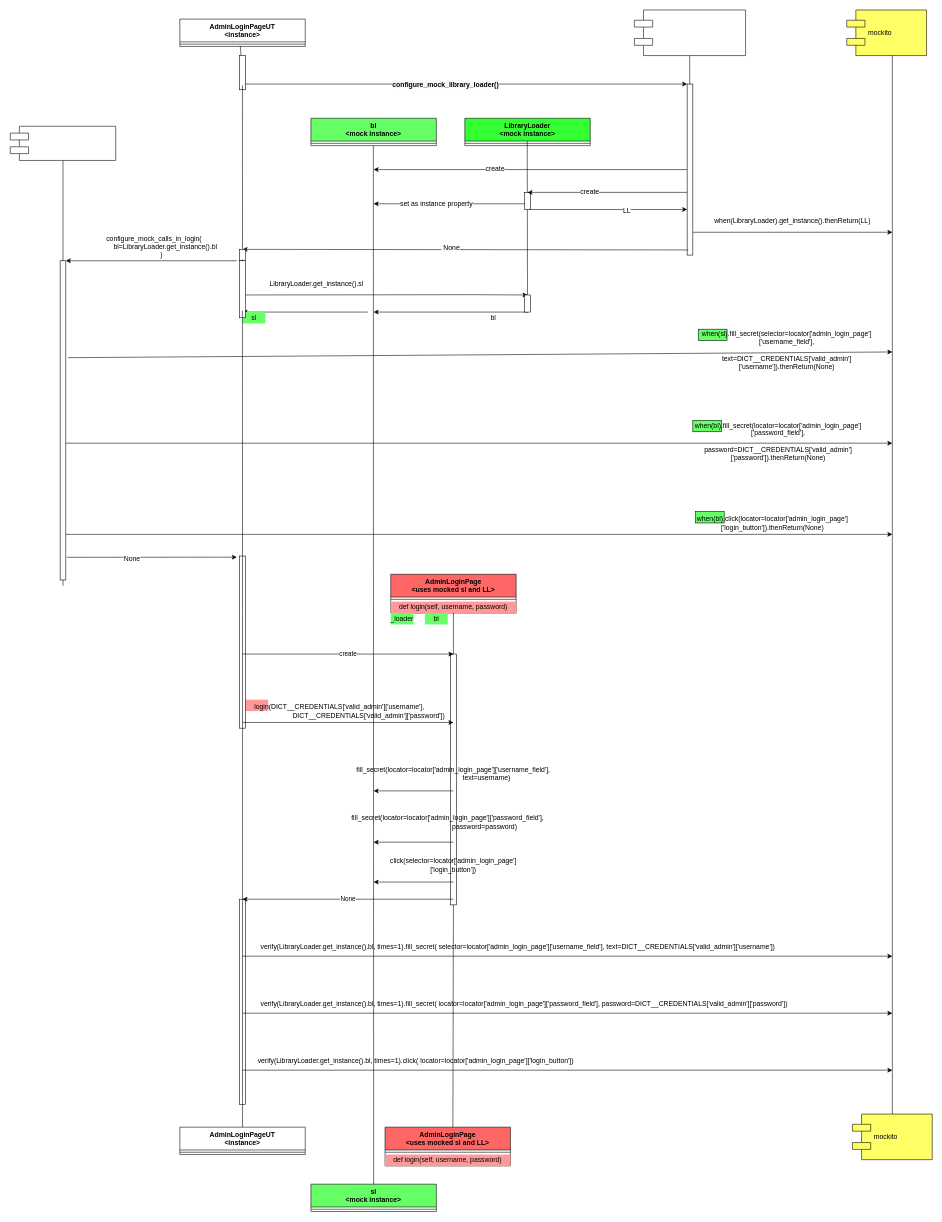
Some shapes in this 942 by 1222 pixel diagram are drawn without their labels. Here are the shapes that lost their labels. From the top down, the centre of each, then its label:
At pixel 690 32: "LibraryLoaderStub.py".
At pixel 63 143: "BrowserLibraryStub.py".
